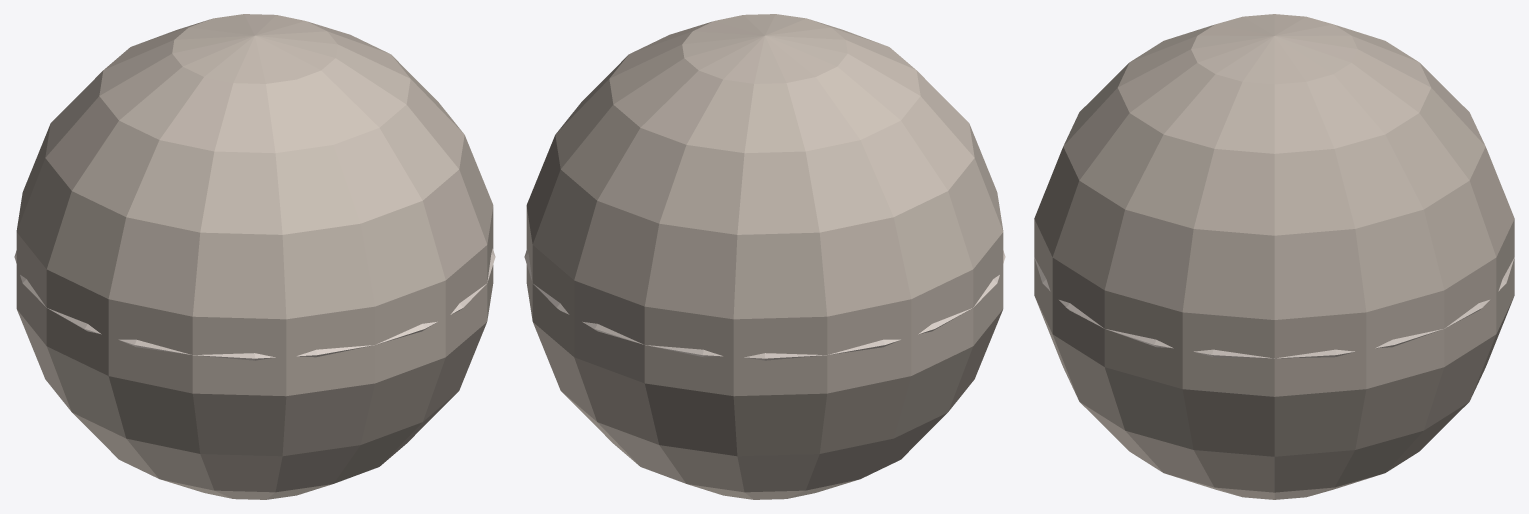
File: esfera_piedra.glb
The picture shows the model from 3 angles, left to right: view 1: azimuth 30°, elevation 25°; view 2: azimuth 150°, elevation 25°; view 3: azimuth 270°, elevation 25°; orthographic projection.
Parts seen in each view (by area): view 1: esfera_piedra; view 2: esfera_piedra; view 3: esfera_piedra.
Boxes of the visible parts, box(x1,y1,x2,y2) form: esfera_piedra: box(14, 14, 495, 499); esfera_piedra: box(524, 14, 1005, 499); esfera_piedra: box(1034, 14, 1514, 499).
Size of the model in its own units: 1.97 by 2 by 1.97.
